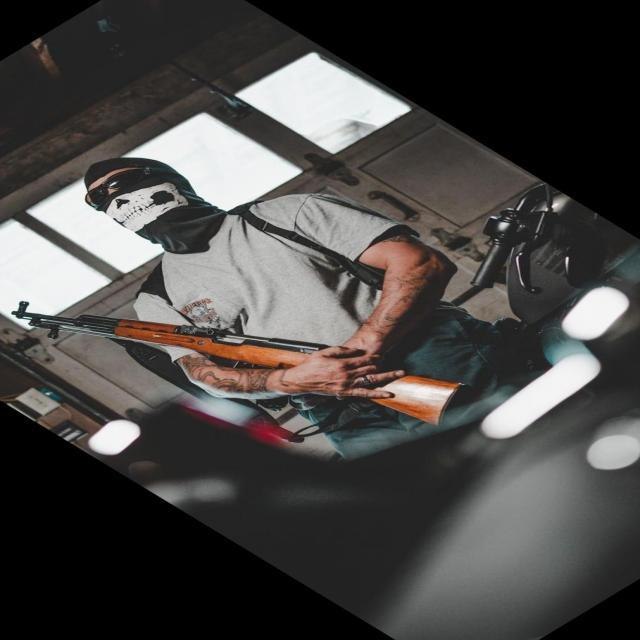weapon: (12, 301, 480, 431)
